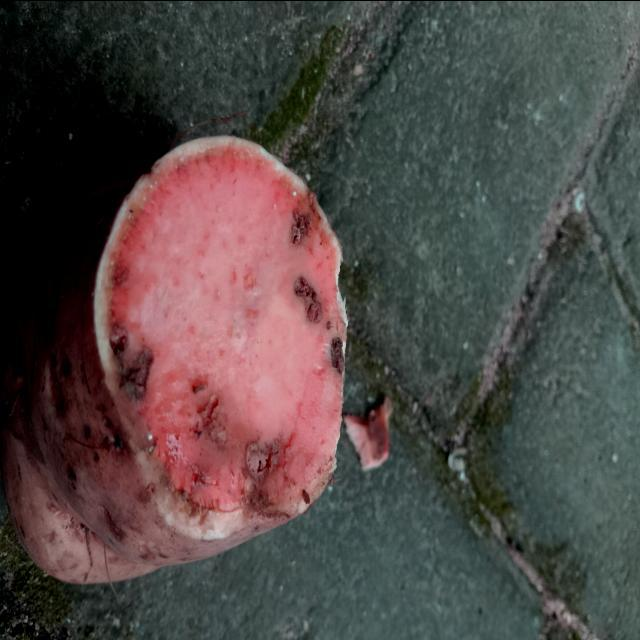Sick Sweet Potato_Tuber Rot: (98, 137, 346, 538)
